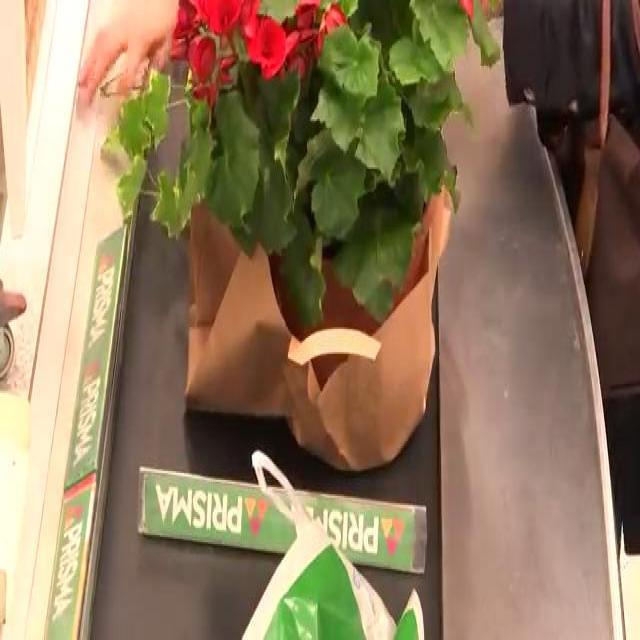utility-box: (170, 7, 444, 464)
